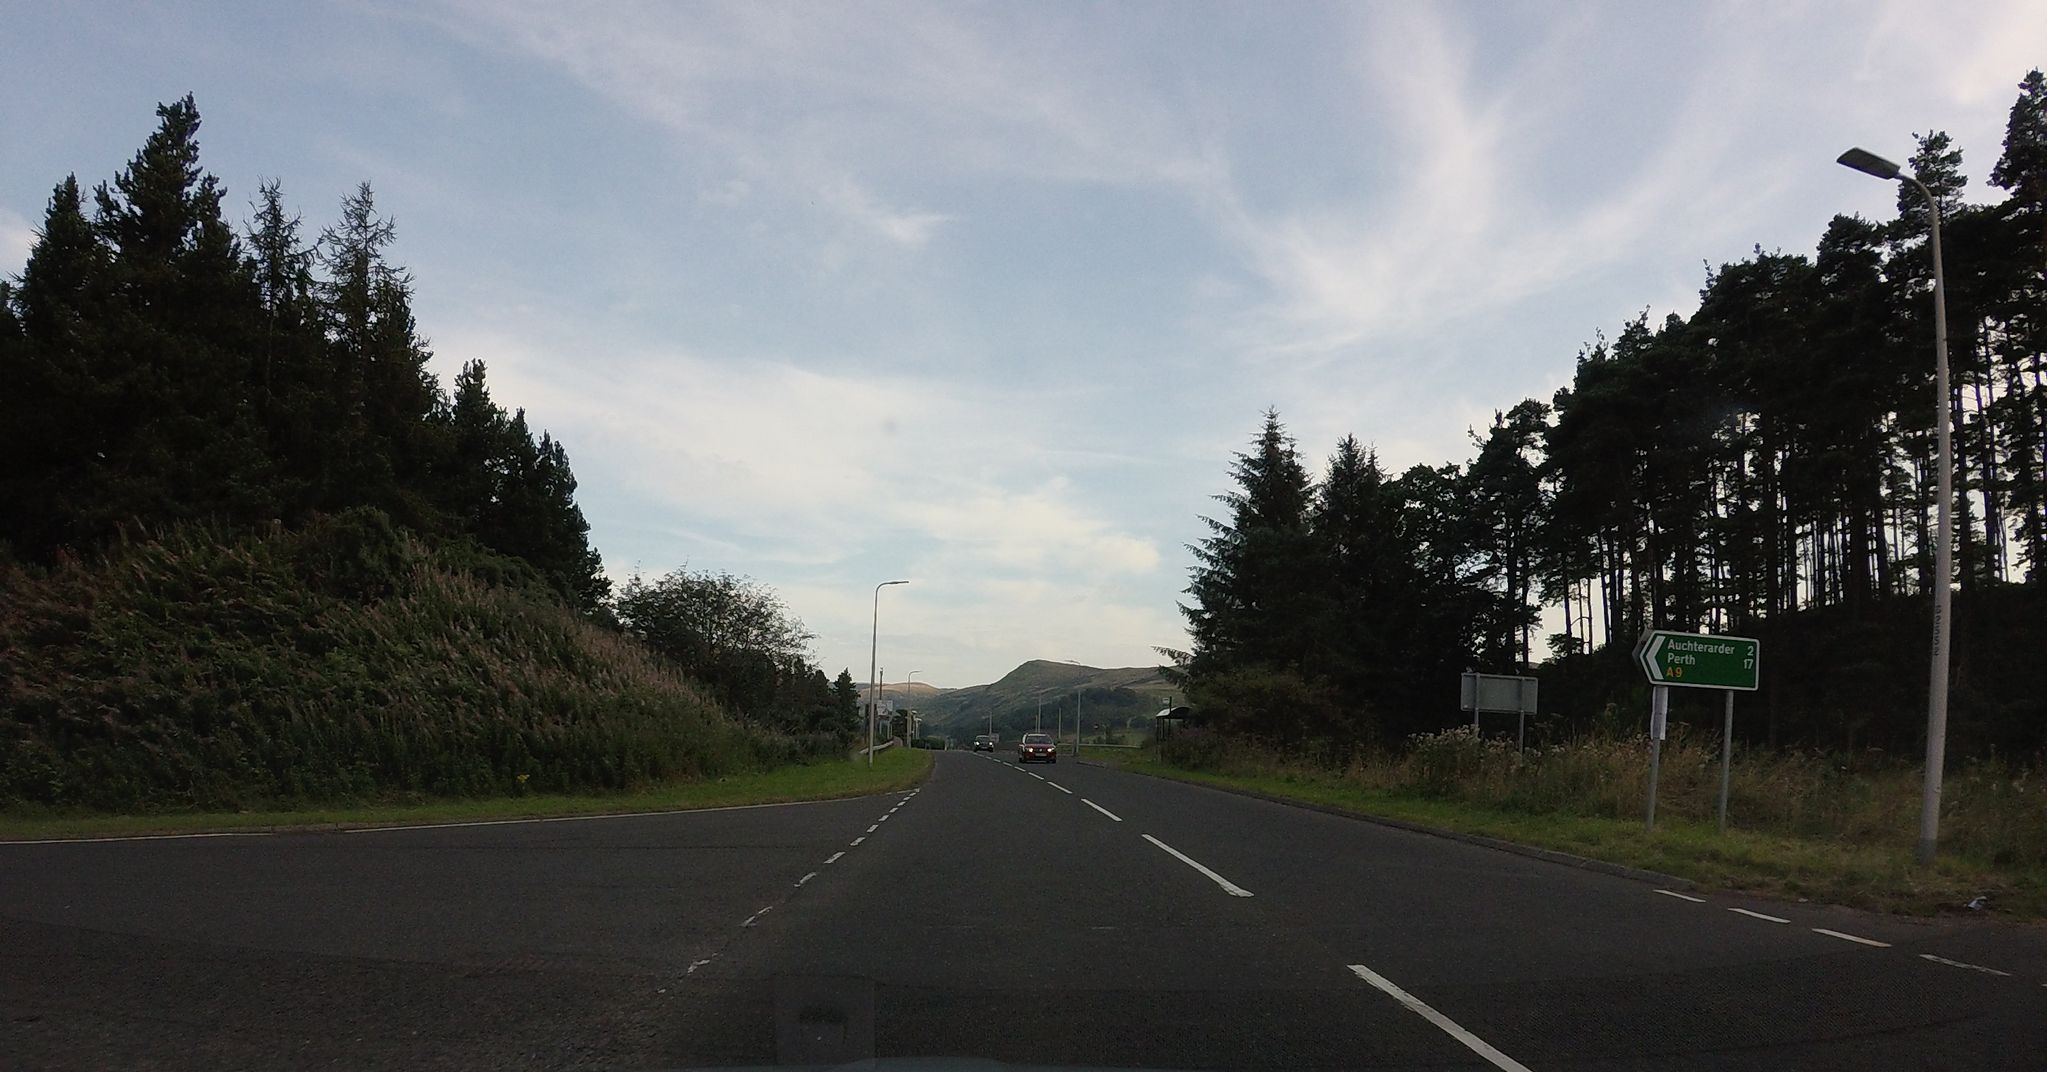car: (1017, 732, 1057, 763), (973, 735, 994, 753)
